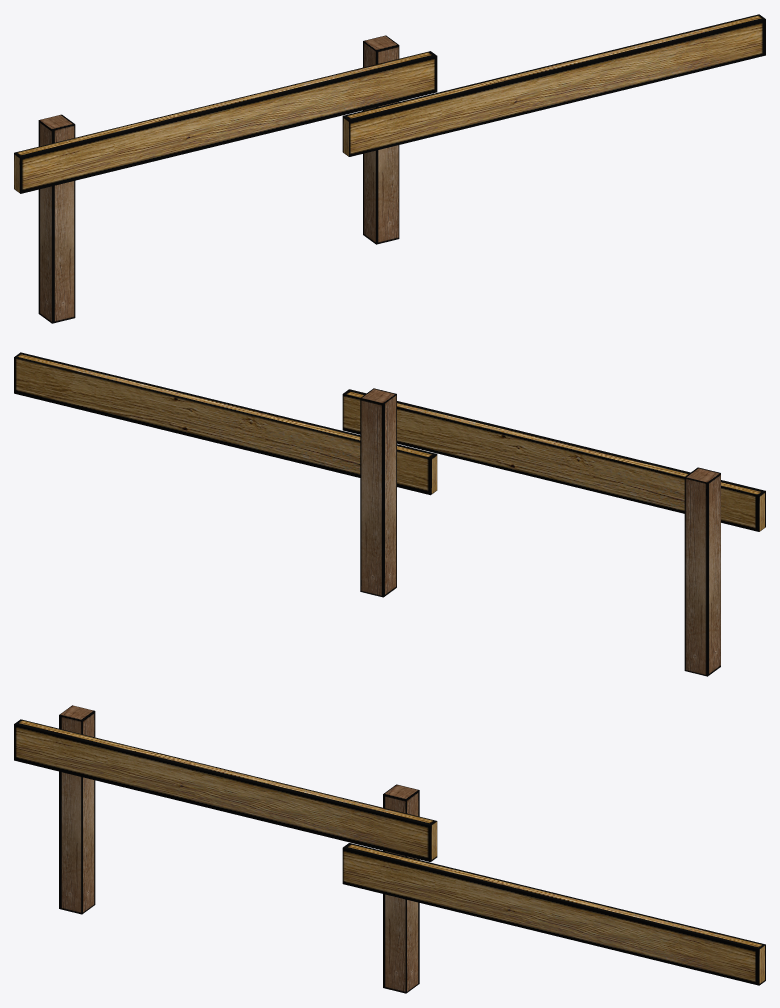
Rendered from WoodFences_02.FBX.
3 renders of one model, top to bottom at view 1: azimuth 30°, elevation 25°; view 2: azimuth 150°, elevation 25°; view 3: azimuth 330°, elevation 25°, orthographic.
Visible parts, largest first — view 1: Box004; view 2: Box004; view 3: Box004.
Boxes of the visible parts, x1=… form: Box004: x1=14, y1=14, x2=765, y2=323; Box004: x1=14, y1=352, x2=765, y2=676; Box004: x1=14, y1=705, x2=765, y2=993.
Size of the model in its own units: 161 by 40 by 7.52.
